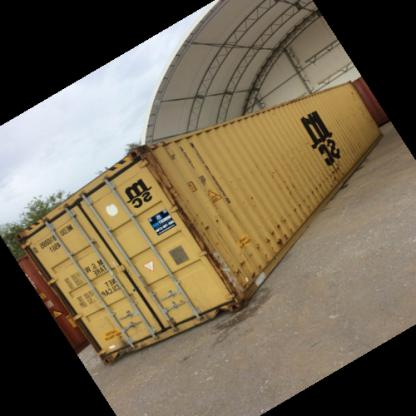Damage: (136, 139, 216, 246), (193, 244, 253, 302), (296, 163, 350, 207), (258, 213, 298, 259)
